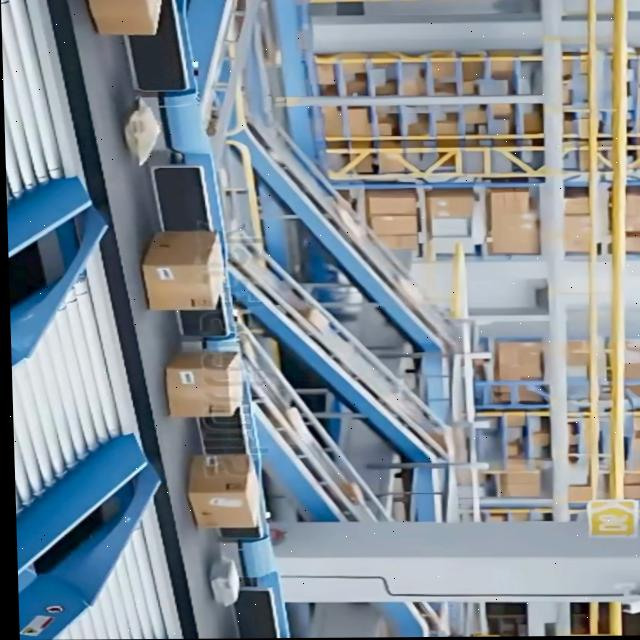product 1: (140, 231, 226, 312), (185, 454, 260, 530), (163, 351, 245, 418)
product 2: (208, 559, 241, 607)
